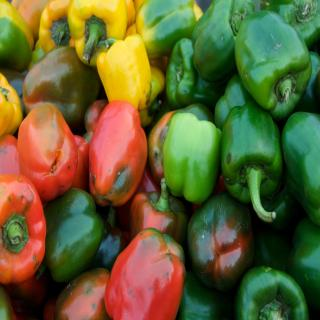Bell pepper: (0, 0, 320, 320), (237, 11, 314, 118)
